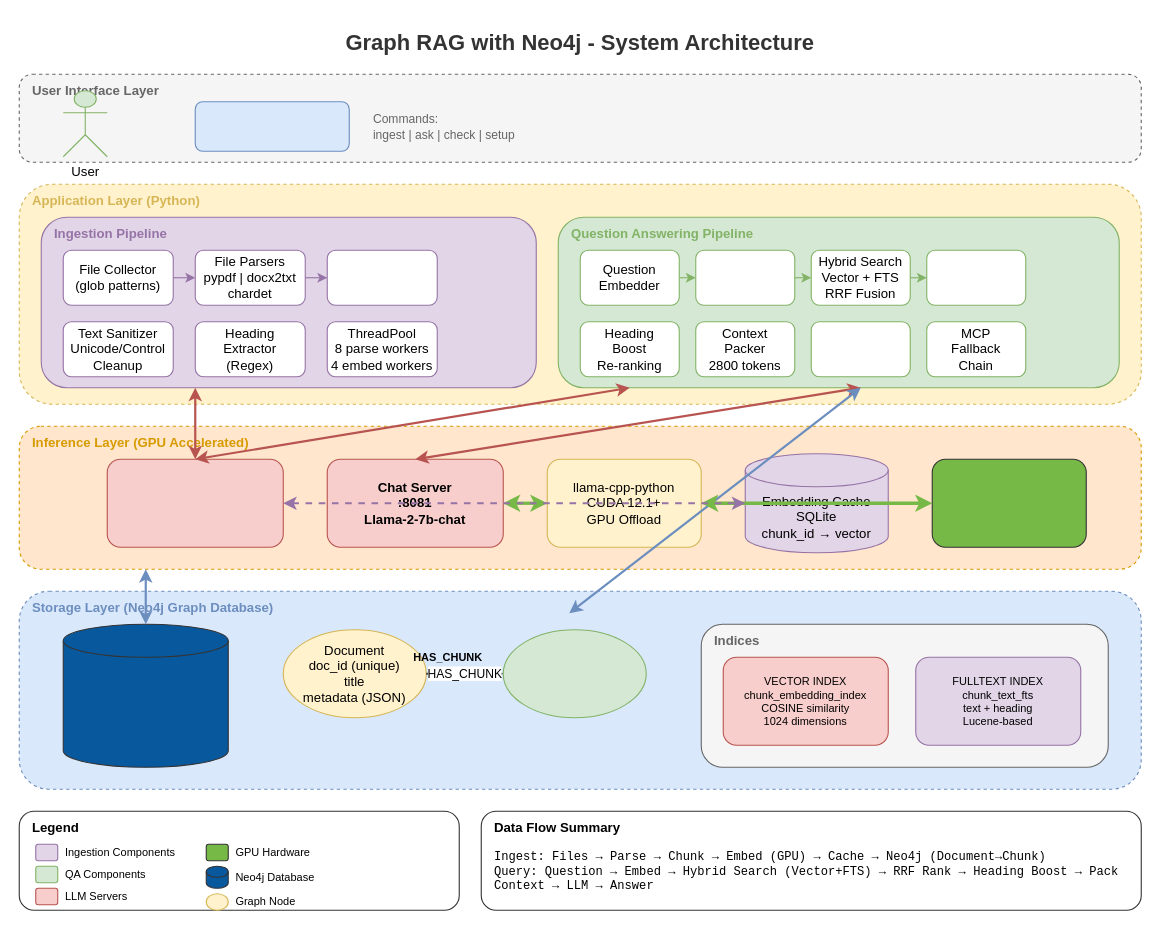
This 1161x931 diagram has some shape labels left out. The centre of each missing label's shape, as x and y in pixels:
"Anchor Window ±2 chunks" goes at point (976, 277).
"Answer Generator +Citations" goes at point (860, 349).
"Chunk chunk_id (unique) text, heading embedding[] order" goes at point (574, 673).
"CLI Interface (Click + Rich)" goes at point (271, 126).
"Embedding Server :8080 Qwen3-Embed-0.6b" goes at point (194, 502).
"FTS Query Prep tokens+bigrams" goes at point (745, 277).
"Neo4j 5.20+ bolt://host:7687 Connection Pool (50)" goes at point (145, 695).
"NVIDIA GPU RTX 20/30/40 CUDA Cores" goes at point (1008, 502).
"Text Chunker 1800 chars 200 overlap" goes at point (381, 277).
